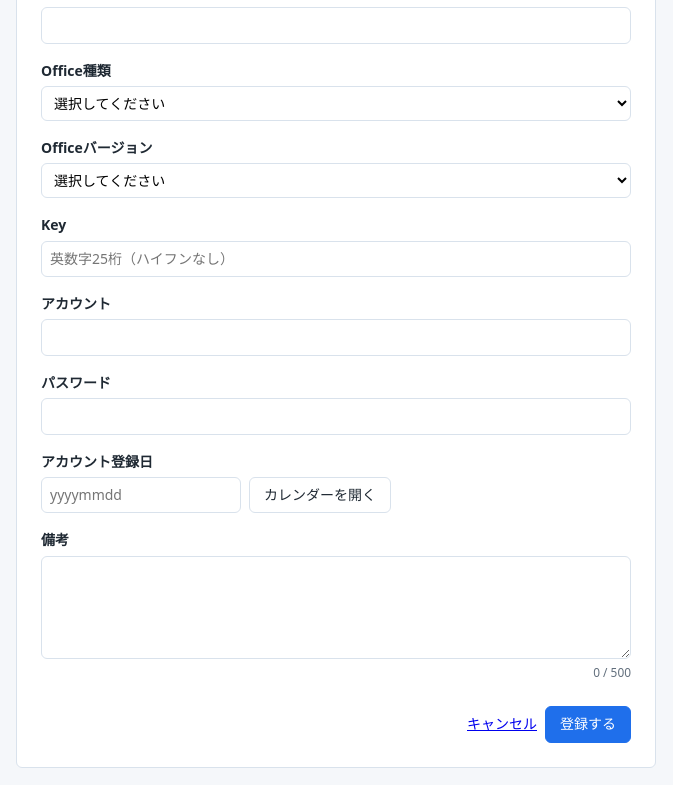
Test: FacilityPcFormPage（新規登録） › 備考の文字数を表示する
(page scrolled)
Step 1. Type "あいう" into the text box labelled "備考" → {"x": 336, "y": 608}, box [41, 556, 631, 659]
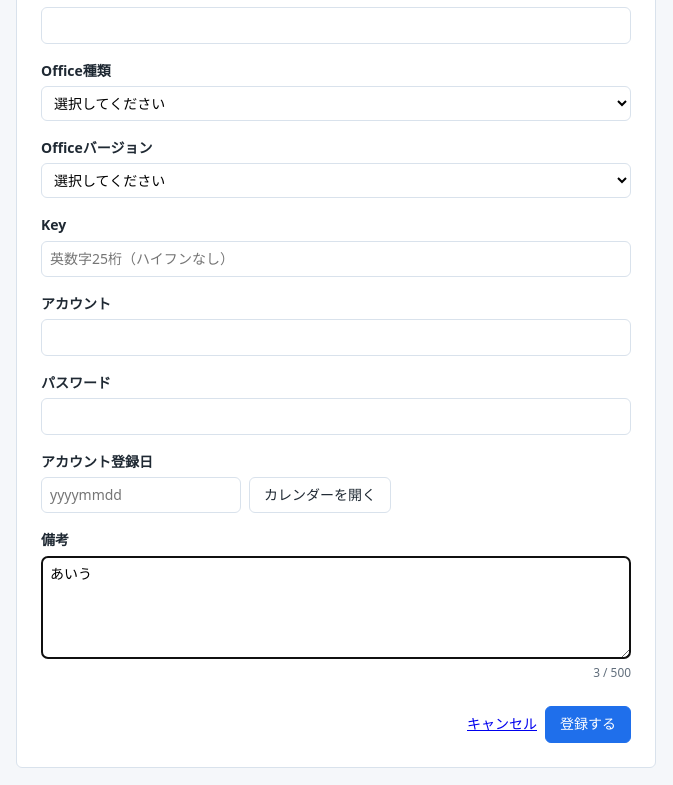
Check: the text "3 / 500" is shown, box [593, 663, 631, 682]
